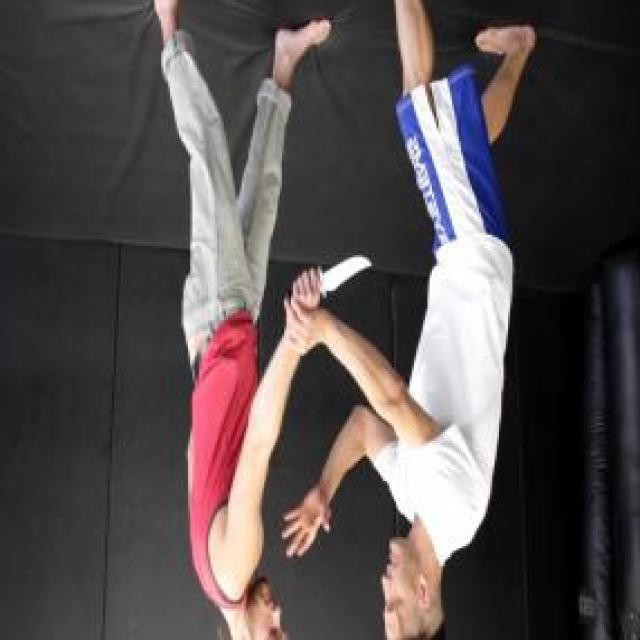knife: (282, 244, 376, 309)
